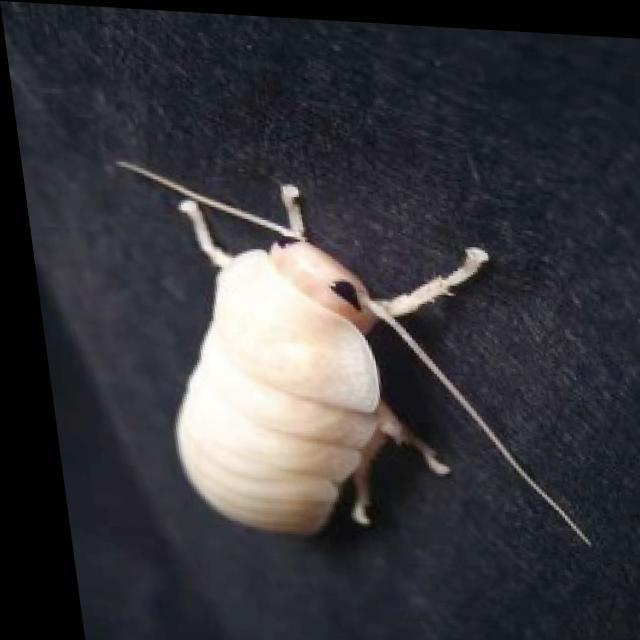cockroach: (173, 240, 386, 538)
